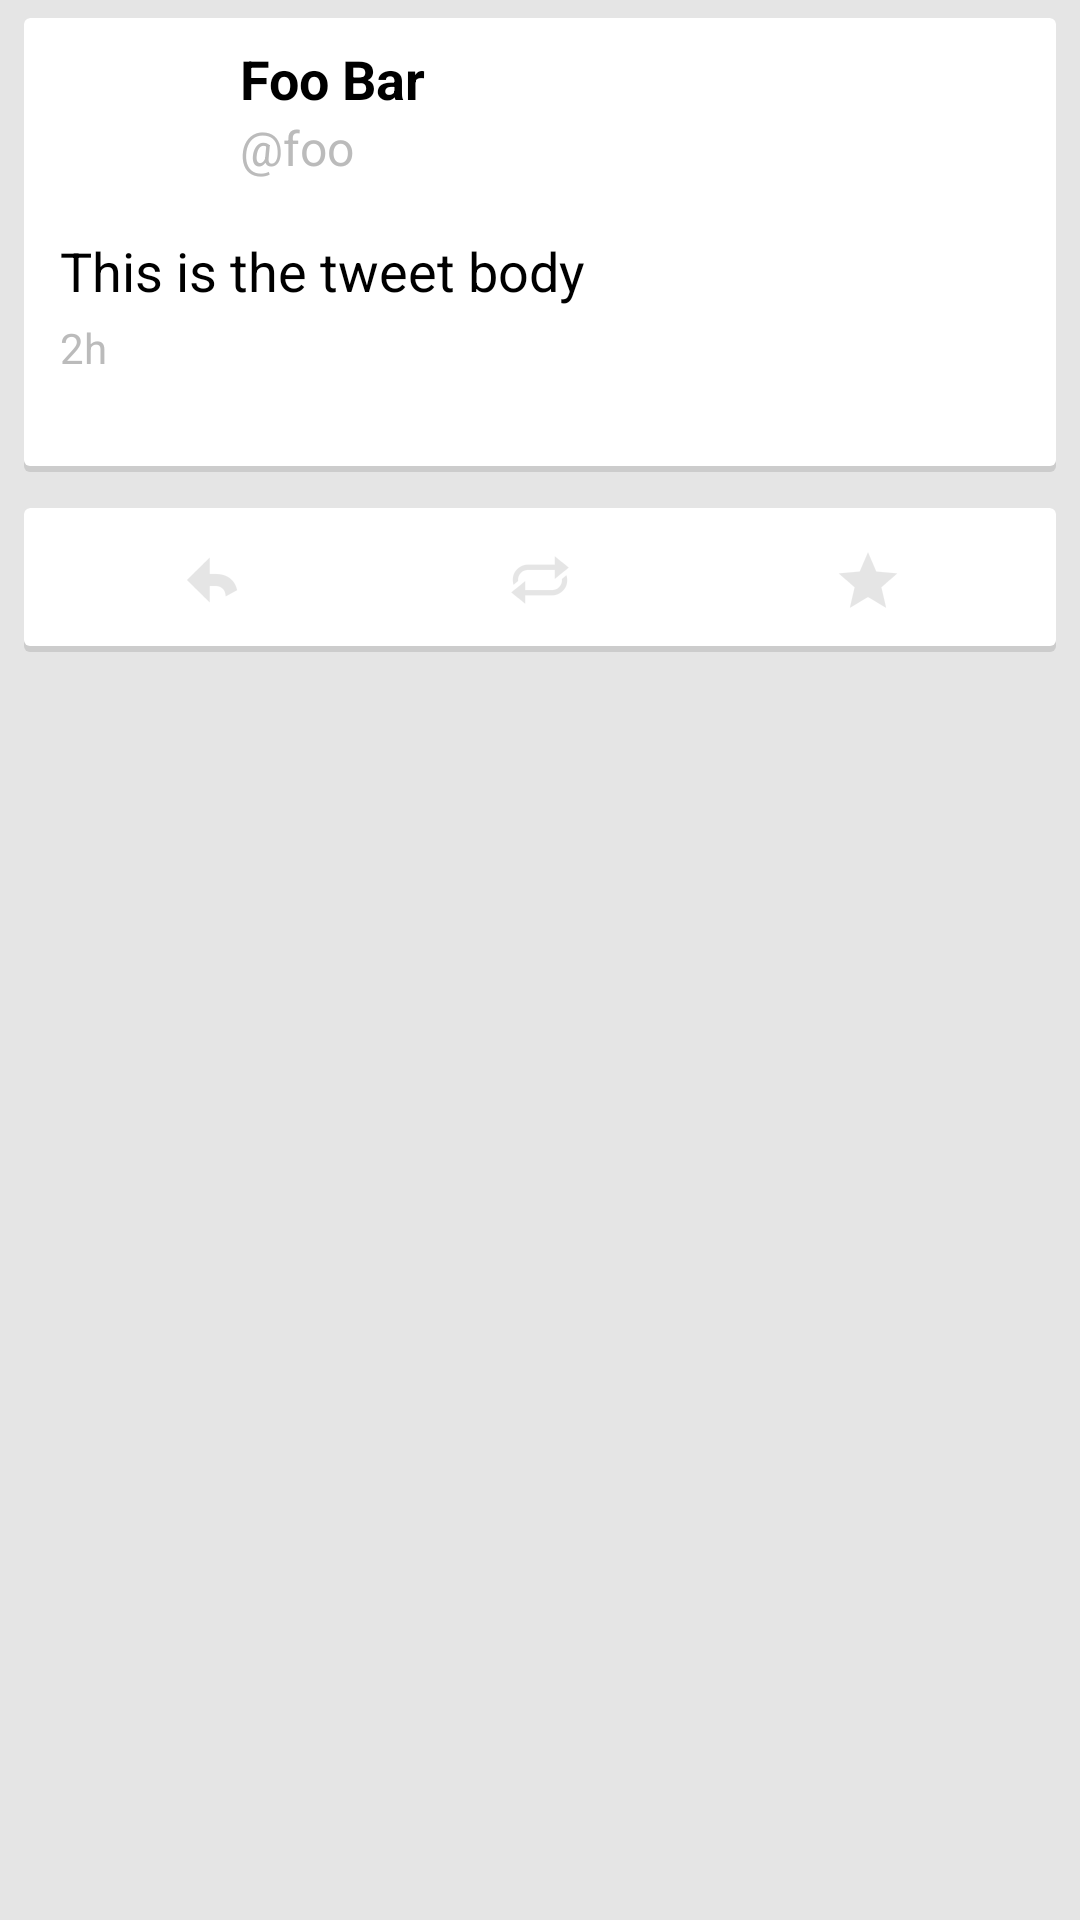

Screen size 1080 × 1920. Icon name, then its center in pixels as (x,y):
favorite: (868,580)
reply: (212,580)
retweet: (540,580)
